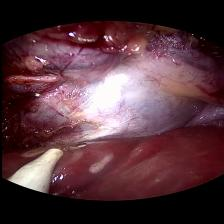Hook: (9, 140, 86, 196)
